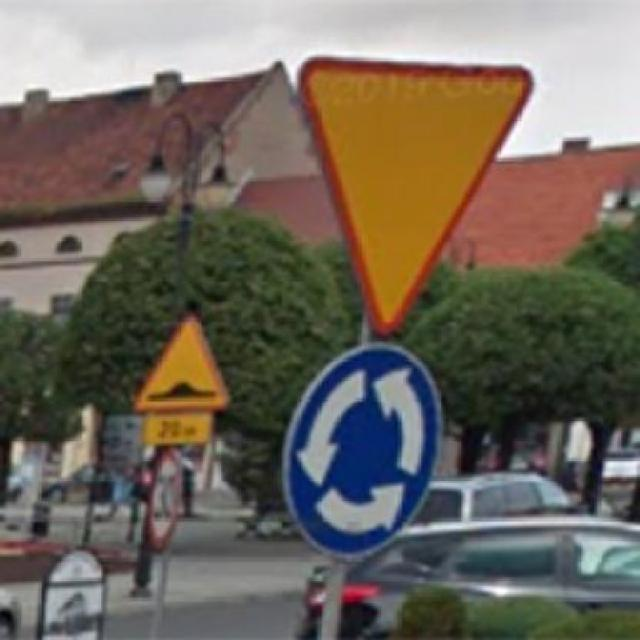Ustap pierwszenstwa: (294, 52, 535, 340)
